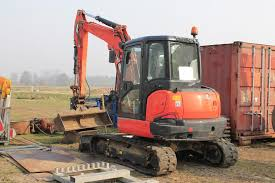excavator: (64, 9, 236, 173)
truck: (200, 39, 275, 146)
